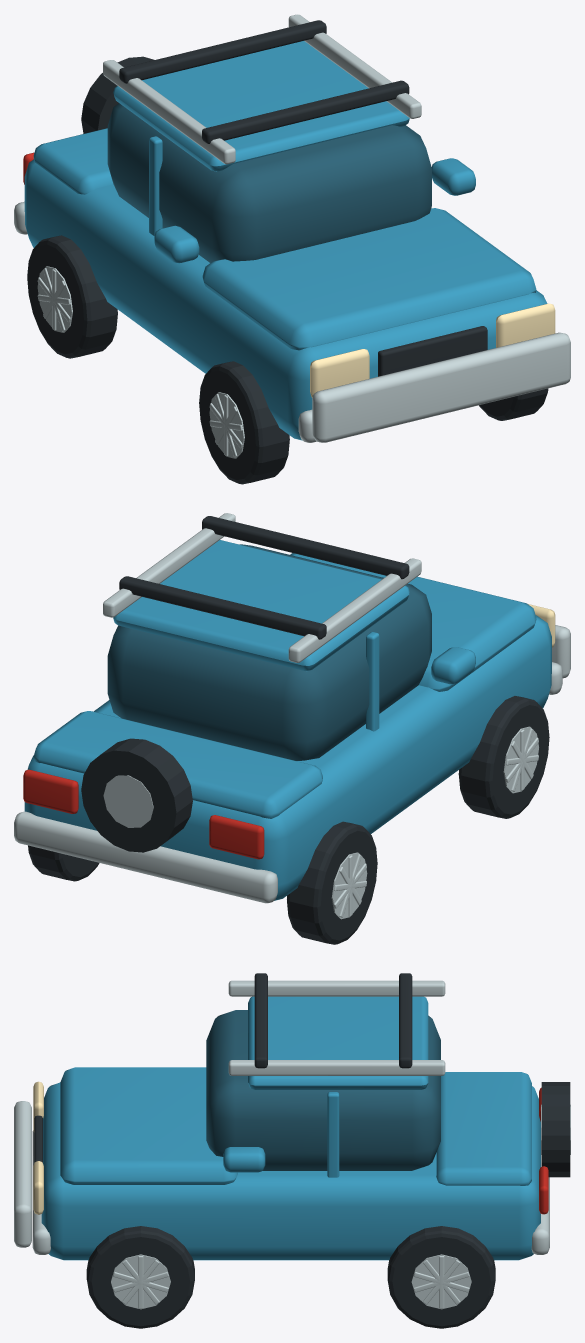
File: coast-suv.glb
3 views of the same model, one above another, from view 1: azimuth 30°, elevation 25°; view 2: azimuth 150°, elevation 25°; view 3: azimuth 270°, elevation 25° (orthographic). The views are drawn at different scales.
Visible parts, largest first — view 1: coast-suv paint, Midnight blue glass.002, Satin alloy.002, Rubber.002, TireMeshFL, TireMeshRL, Ivory headlights.002, TireMeshFR; view 2: coast-suv paint, Midnight blue glass.002, Satin alloy.002, Rubber.002, TireMeshRL, TireMeshFL, Red tail lamps.002, TireMeshRR; view 3: coast-suv paint, Midnight blue glass.002, Satin alloy.002, TireMeshRR, TireMeshFR, Rubber.002, Ivory headlights.002, Red tail lamps.002.
Boxes of the visible parts, x1,y1,x2,y2 form: coast-suv paint: (24,41,547,440); Midnight blue glass.002: (107,103,431,262); Satin alloy.002: (14,14,570,442); Rubber.002: (81,20,487,376); TireMeshFL: (199,361,289,484); TireMeshRL: (27,235,117,358); Ivory headlights.002: (310,303,555,397); TireMeshFR: (479,388,548,420); coast-suv paint: (24,540,551,900); Midnight blue glass.002: (107,544,431,760); Satin alloy.002: (14,513,570,903); Rubber.002: (81,516,409,852); TireMeshRL: (287,821,377,944); TireMeshFL: (458,696,549,818); Red tail lamps.002: (23,769,264,859); TireMeshRR: (28,845,99,881); coast-suv paint: (41,996,540,1260); Midnight blue glass.002: (206,1010,440,1170); Satin alloy.002: (14,980,570,1254); TireMeshRR: (387,1226,495,1328); TireMeshFR: (86,1226,194,1328); Rubber.002: (34,973,570,1177); Ivory headlights.002: (33,1081,43,1214); Red tail lamps.002: (539,1087,548,1214).
Size of the model in its own units: 2.55 by 2.32 by 4.63.
